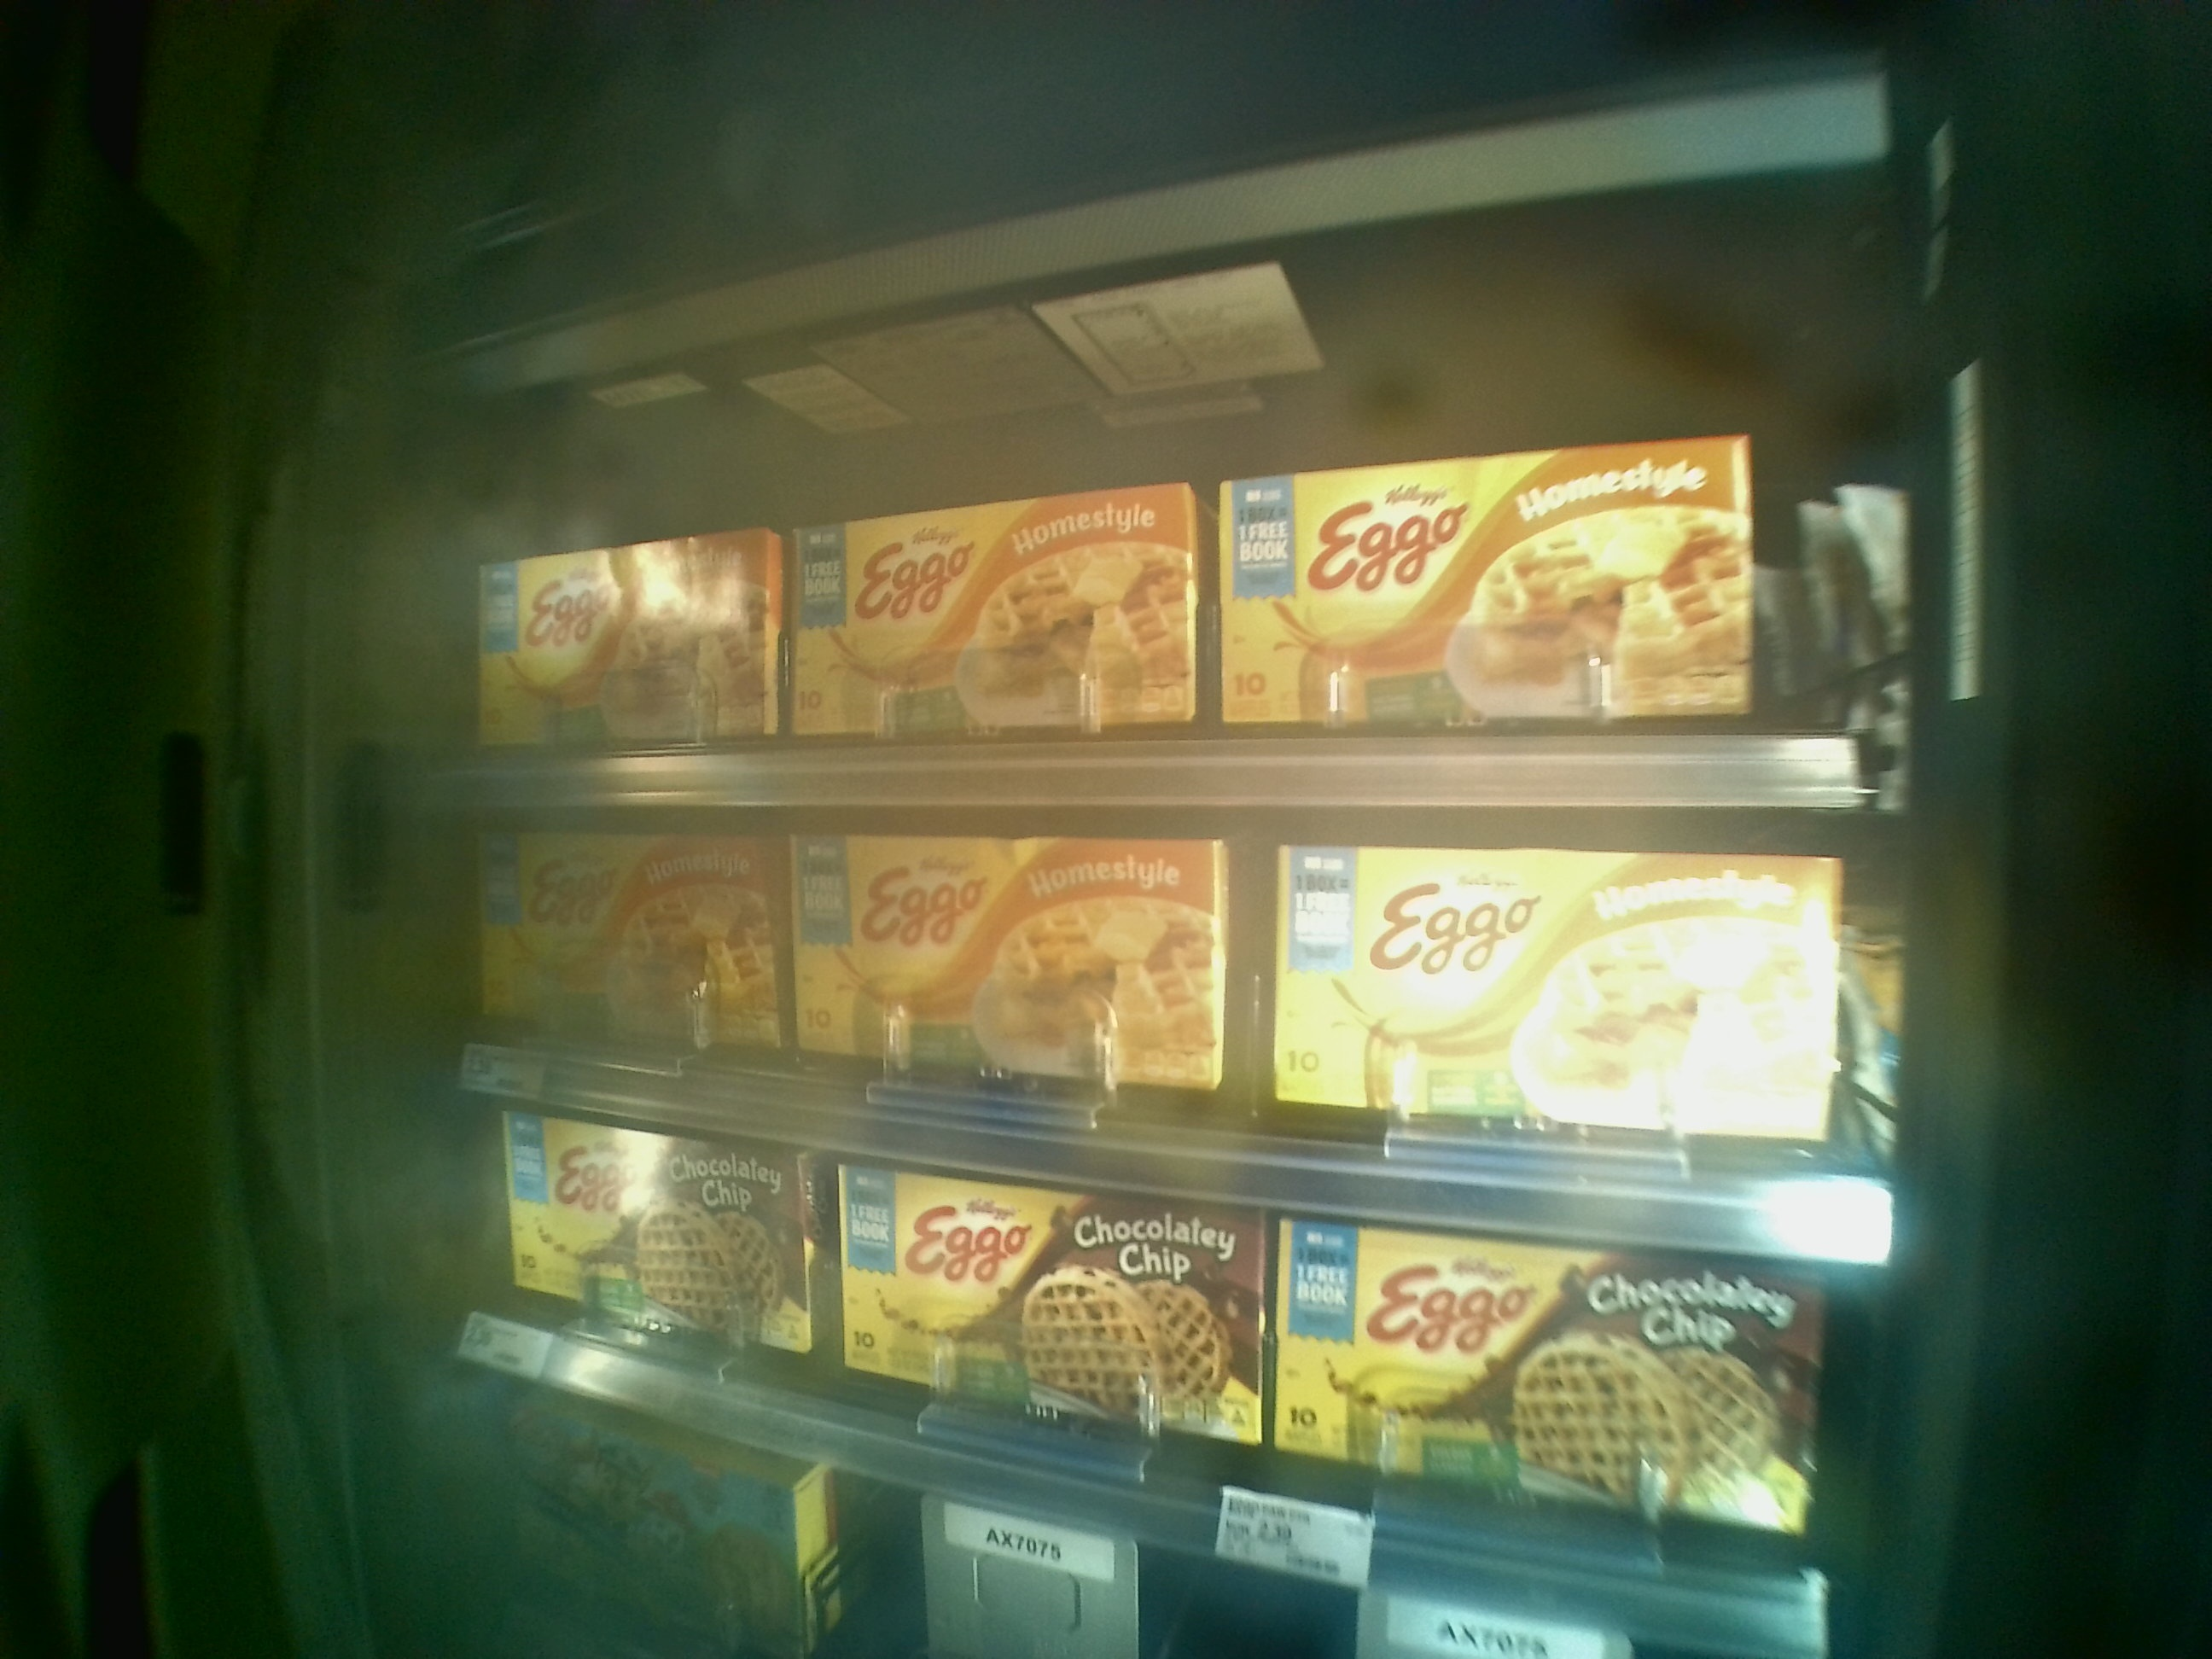shelf: (427, 352, 1885, 814)
